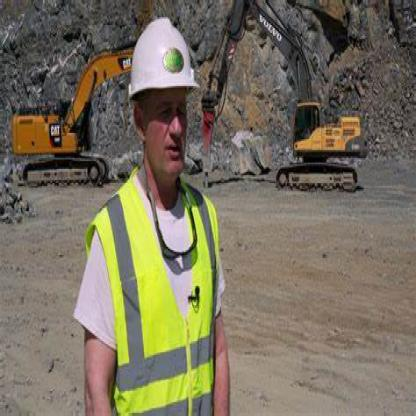person: (67, 19, 233, 413)
